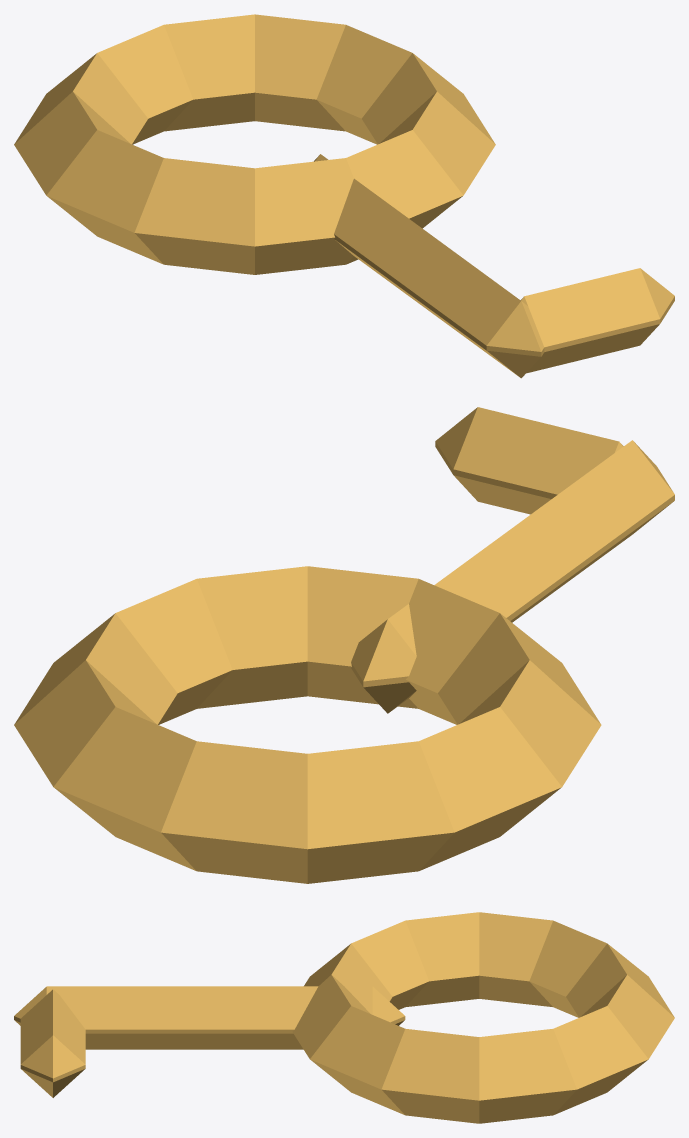
The model's file is key.glb.
The picture shows the model from 3 angles, top to bottom: view 1: azimuth 30°, elevation 25°; view 2: azimuth 150°, elevation 25°; view 3: azimuth 270°, elevation 25°; orthographic projection. The views are drawn at different scales.
Parts seen in each view (by area): view 1: key; view 2: key; view 3: key.
Part boxes in pixels (<box>): key: <box>14,14,674,378</box>; key: <box>14,407,674,883</box>; key: <box>14,912,674,1123</box>.
Bounding box in the file's own units: 0.45 × 0.11 × 0.76.
